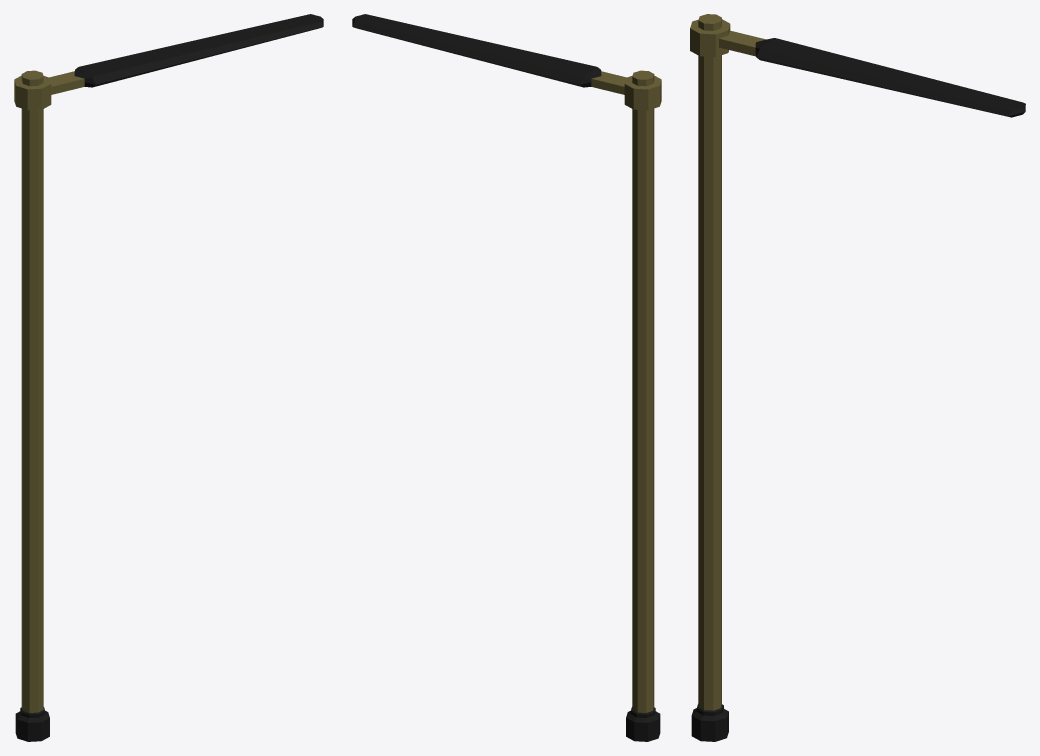
The model's file is Trap_02.fbx.
3 views of the same model, side by side, from view 1: azimuth 30°, elevation 25°; view 2: azimuth 150°, elevation 25°; view 3: azimuth 330°, elevation 25° (orthographic). The views are drawn at different scales.
Visible parts, largest first — view 1: Trap_02_Stick, Trap_02_Blade; view 2: Trap_02_Stick, Trap_02_Blade; view 3: Trap_02_Stick, Trap_02_Blade.
Boxes of the visible parts, x1,y1,x2,y2 form: Trap_02_Stick: (15,70,49,741); Trap_02_Blade: (14,14,323,110); Trap_02_Stick: (626,70,660,741); Trap_02_Blade: (352,14,661,110); Trap_02_Stick: (691,14,728,741); Trap_02_Blade: (690,19,1025,117).
Size of the model in its own units: 1.96 by 4.01 by 0.2269.
